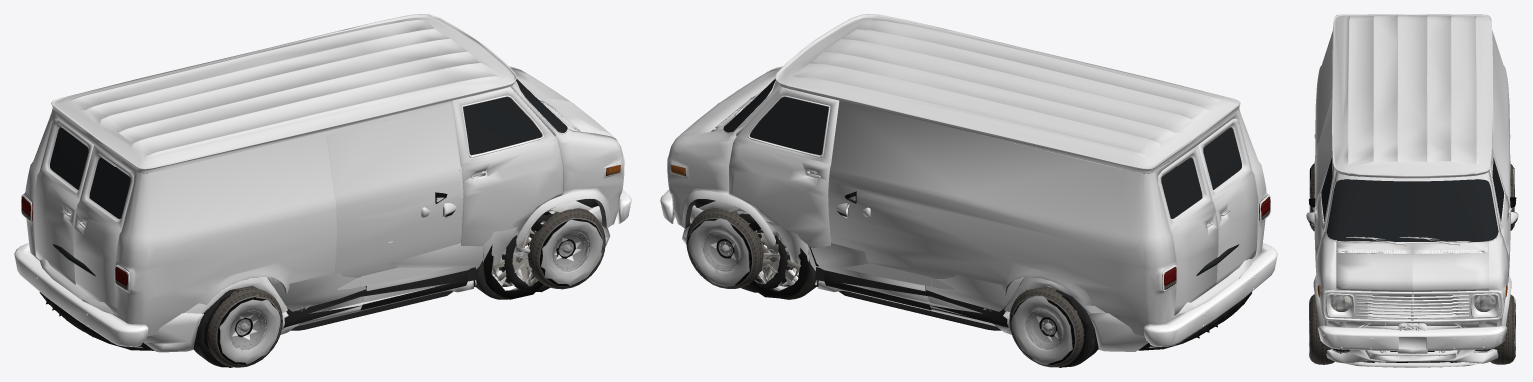
File: cars_lib.glb
3 views of the same model, side by side, from view 1: azimuth 30°, elevation 25°; view 2: azimuth 150°, elevation 25°; view 3: azimuth 270°, elevation 25° (orthographic). The views are drawn at different scales.
Parts seen in each view (by area): view 1: CAR_LIB_car_van_lod, CAR_LIB_car_sedan_lod, CAR_LIB_car_suv_lod, CAR_LIB_car_hatch_lod; view 2: CAR_LIB_car_van_lod, CAR_LIB_car_sedan_lod, CAR_LIB_car_suv_lod, CAR_LIB_car_hatch_lod; view 3: CAR_LIB_car_van_lod, CAR_LIB_car_sedan_lod.
Part boxes in pixels (x1,y1,x2,y2): CAR_LIB_car_van_lod: [14, 14, 631, 367]; CAR_LIB_car_sedan_lod: [39, 194, 610, 366]; CAR_LIB_car_suv_lod: [115, 148, 558, 367]; CAR_LIB_car_hatch_lod: [193, 207, 534, 367]; CAR_LIB_car_van_lod: [660, 14, 1277, 367]; CAR_LIB_car_sedan_lod: [682, 194, 1252, 365]; CAR_LIB_car_suv_lod: [737, 143, 1176, 367]; CAR_LIB_car_hatch_lod: [755, 207, 1098, 367]; CAR_LIB_car_van_lod: [1309, 14, 1515, 364]; CAR_LIB_car_sedan_lod: [1306, 212, 1518, 367].
Bounding box in the file's own units: 5.09 × 2.04 × 2.14.
Materials: 103 (8 with a texture image).
